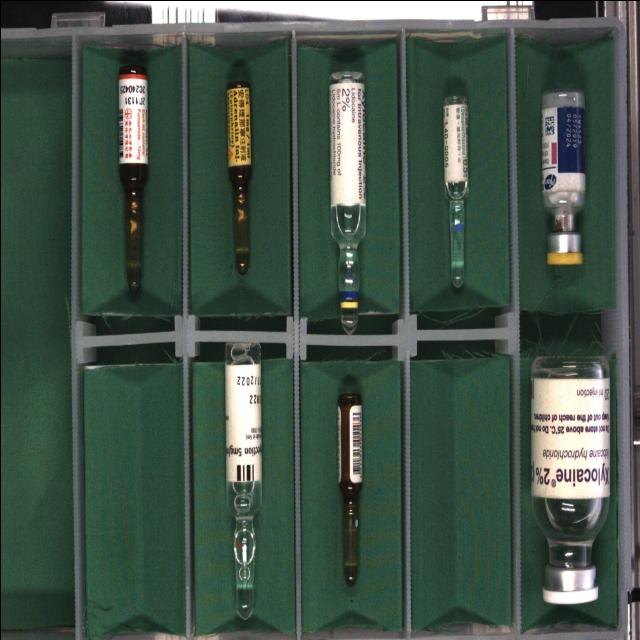Vials: (530, 355, 610, 603), (541, 90, 585, 264)
